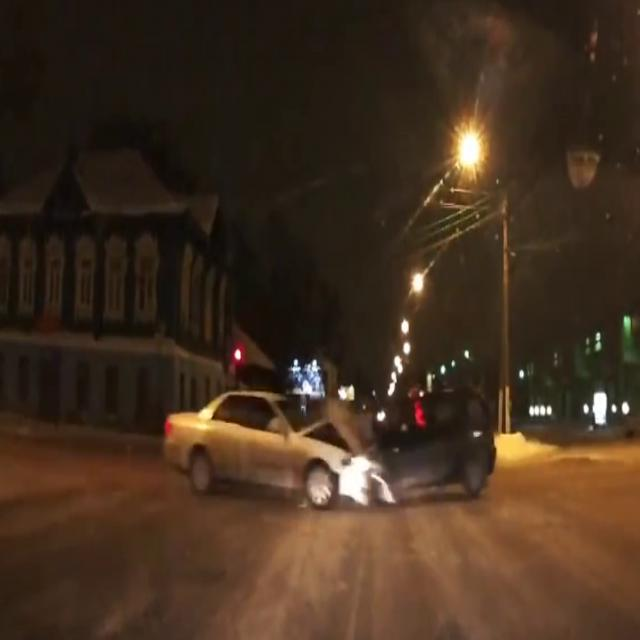accident: (178, 362, 503, 508)
